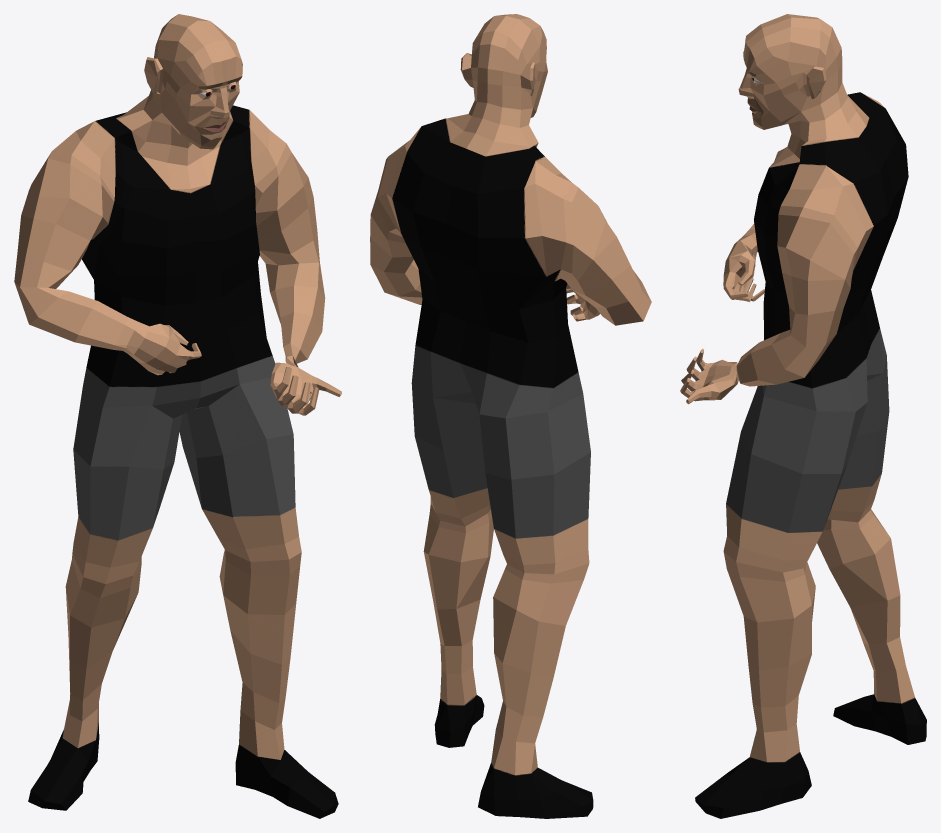
The model's file is PlayerIdle(184).obj.
3 views of the same model, side by side, from view 1: azimuth 30°, elevation 25°; view 2: azimuth 150°, elevation 25°; view 3: azimuth 270°, elevation 25° (orthographic). The views are drawn at different scales.
Visible parts, largest first — view 1: Plane002; view 2: Plane002; view 3: Plane002.
Part boxes in pixels (left/top/right/bottom): Plane002: left=14, top=14, right=341, bottom=818; Plane002: left=370, top=14, right=651, bottom=818; Plane002: left=680, top=14, right=926, bottom=818.
Bounding box in the file's own units: 701 × 1802 × 535.
